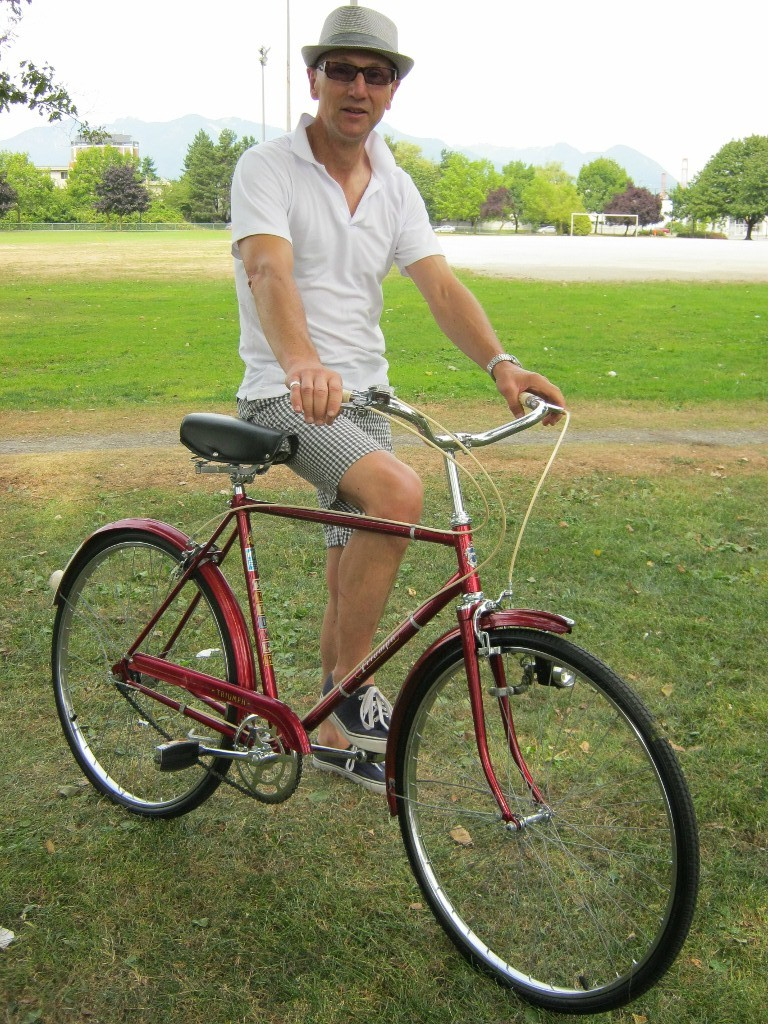Bike_toward: (74, 379, 742, 1001)
